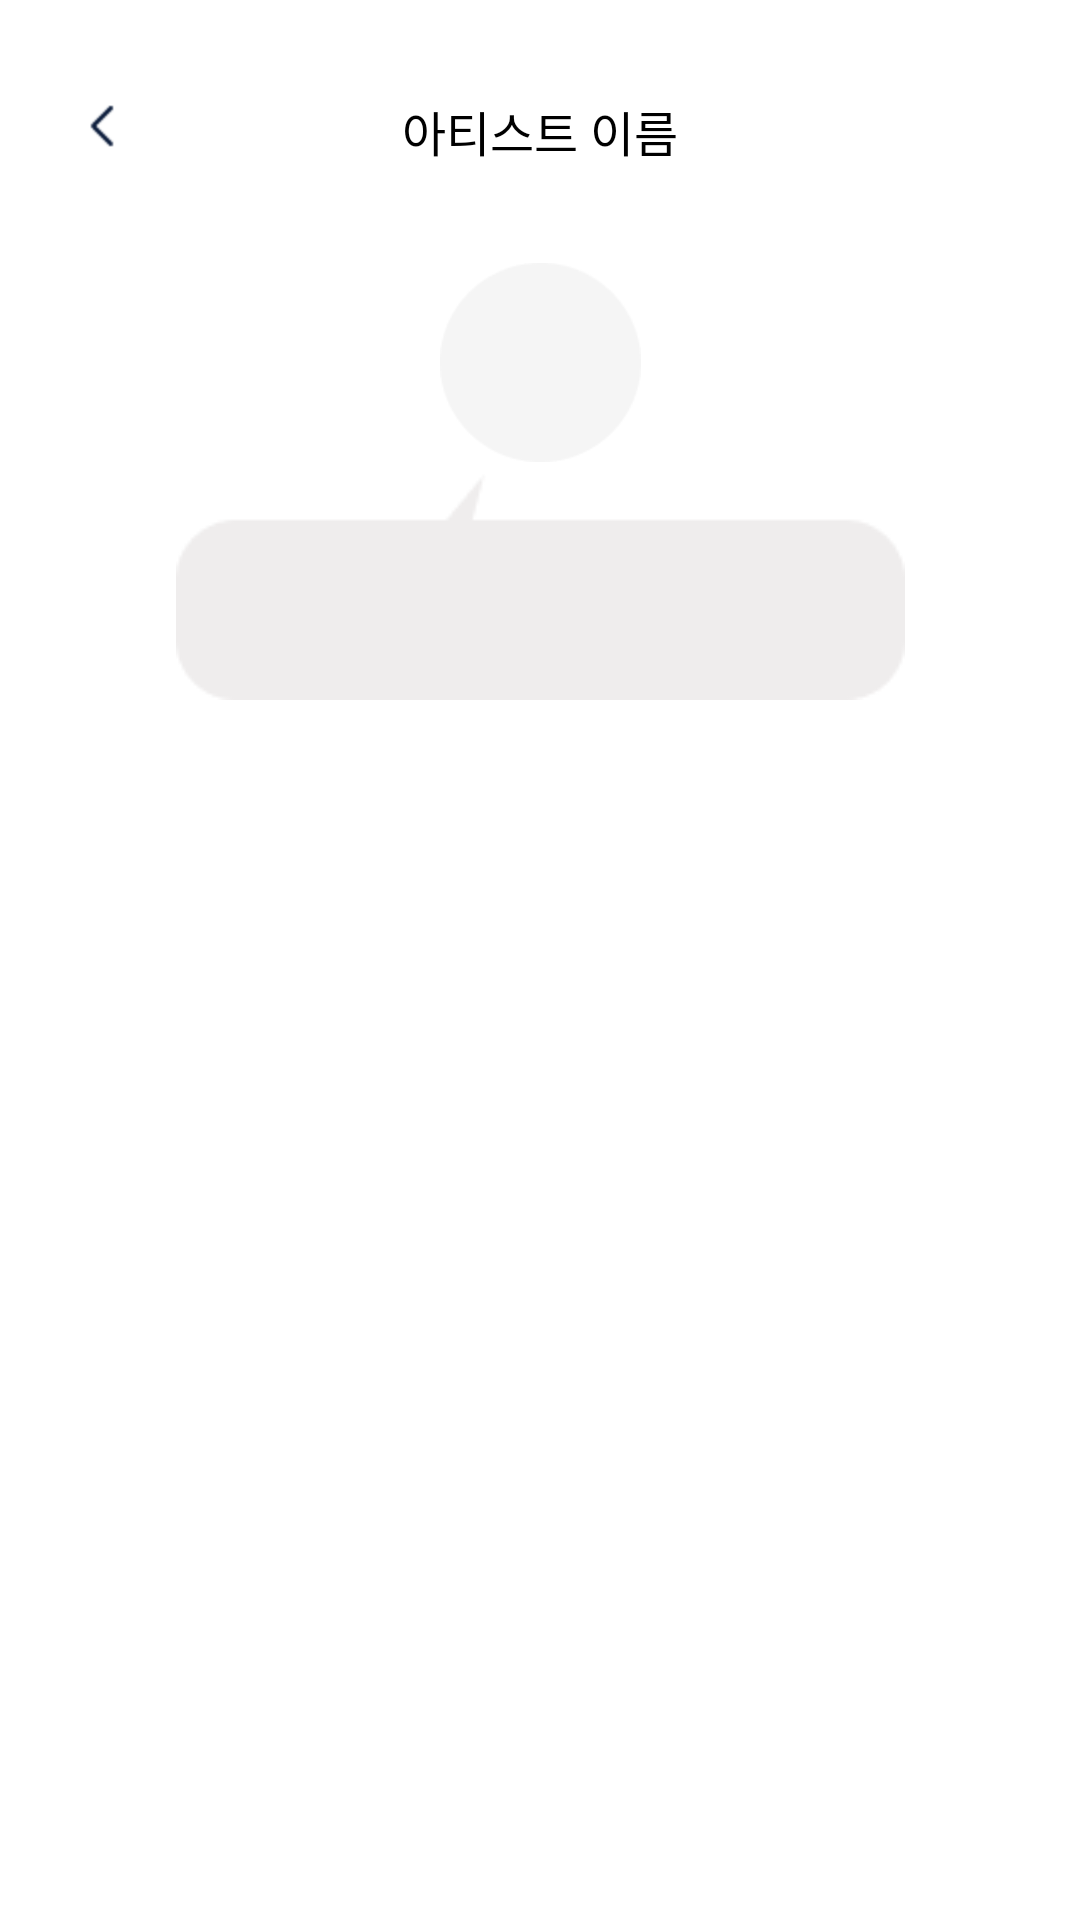

Named icons in this screenshot (1080w x 1920h) and their centers, [x,y]:
back: [102,126]
